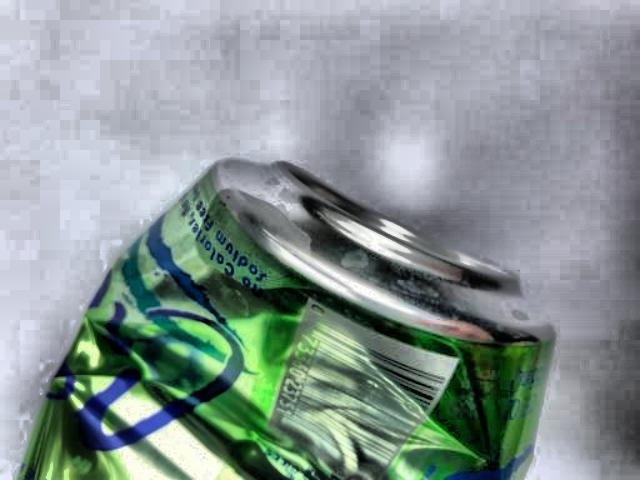Bottles: (10, 131, 640, 480)
